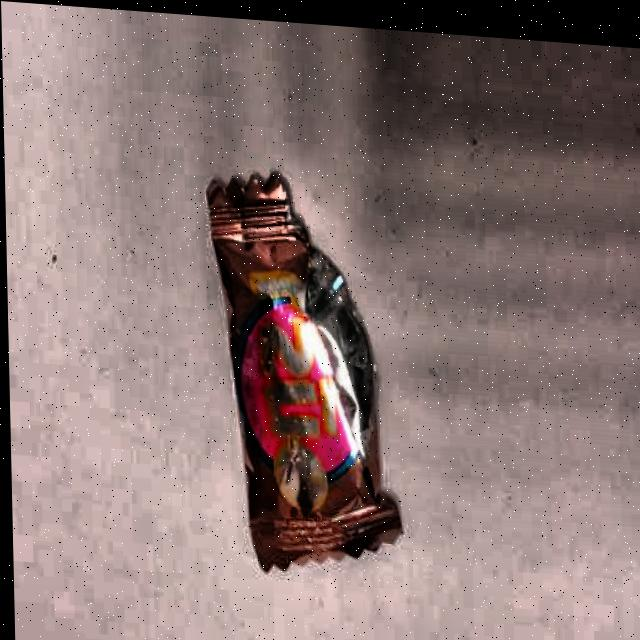plastic: (197, 161, 410, 612)
